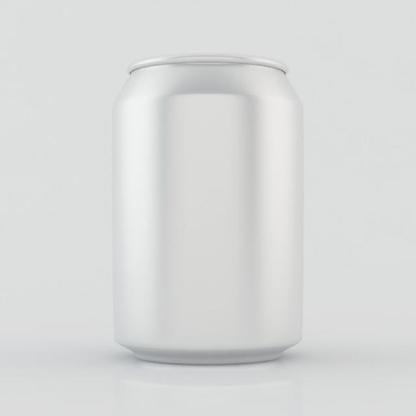Can: (102, 48, 326, 378)
